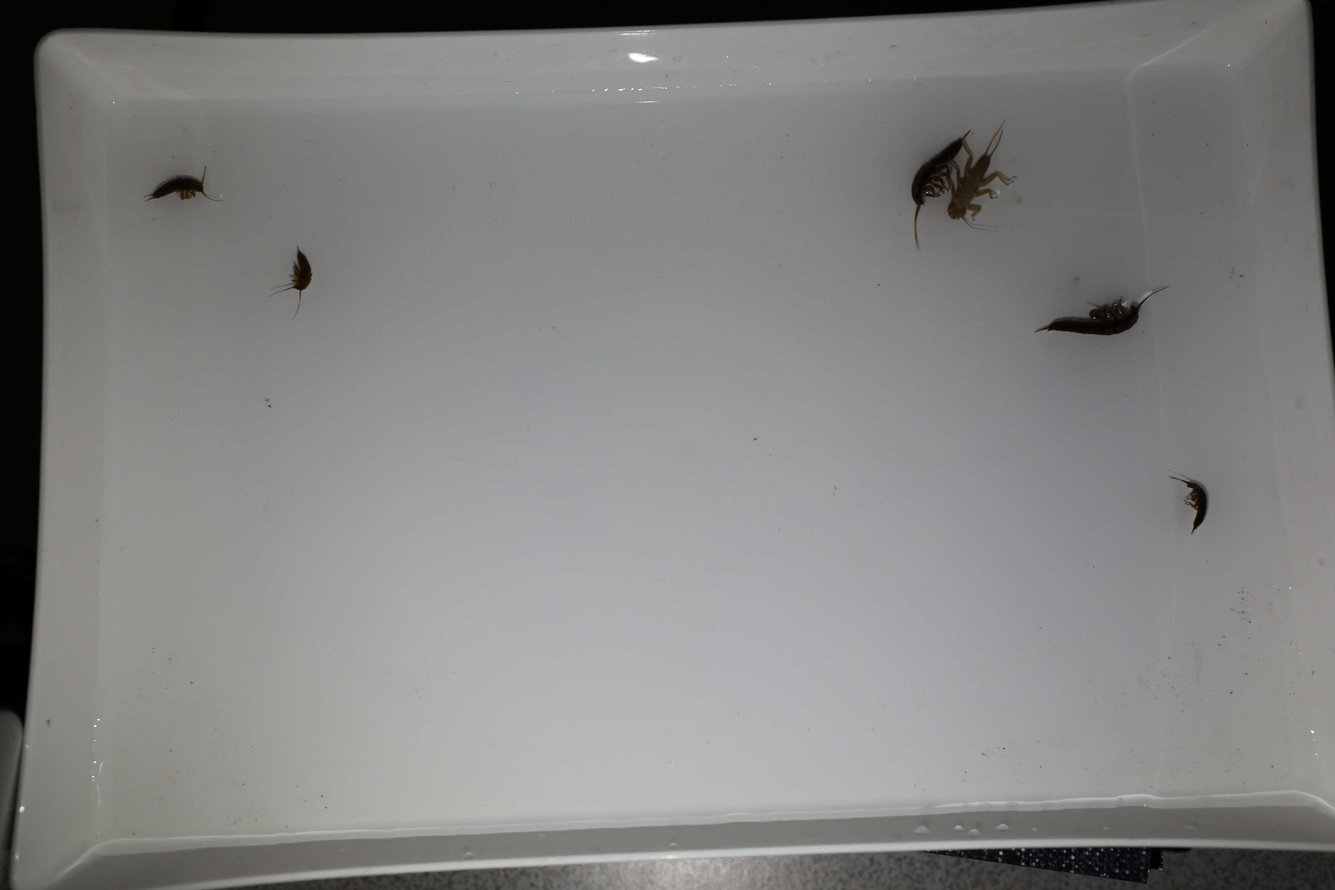Stonefly: (1030, 286, 1171, 345), (910, 125, 964, 253), (949, 119, 1011, 226), (145, 163, 221, 211), (1169, 474, 1215, 535), (276, 244, 312, 317)
